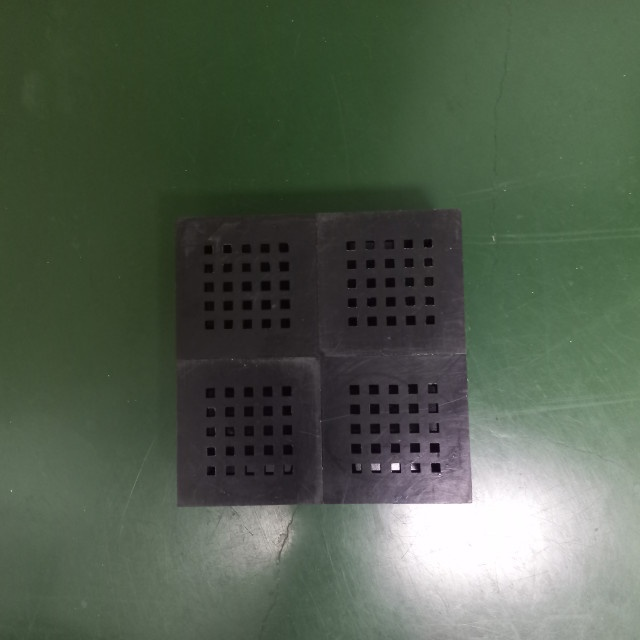pallet: (168, 203, 470, 508)
